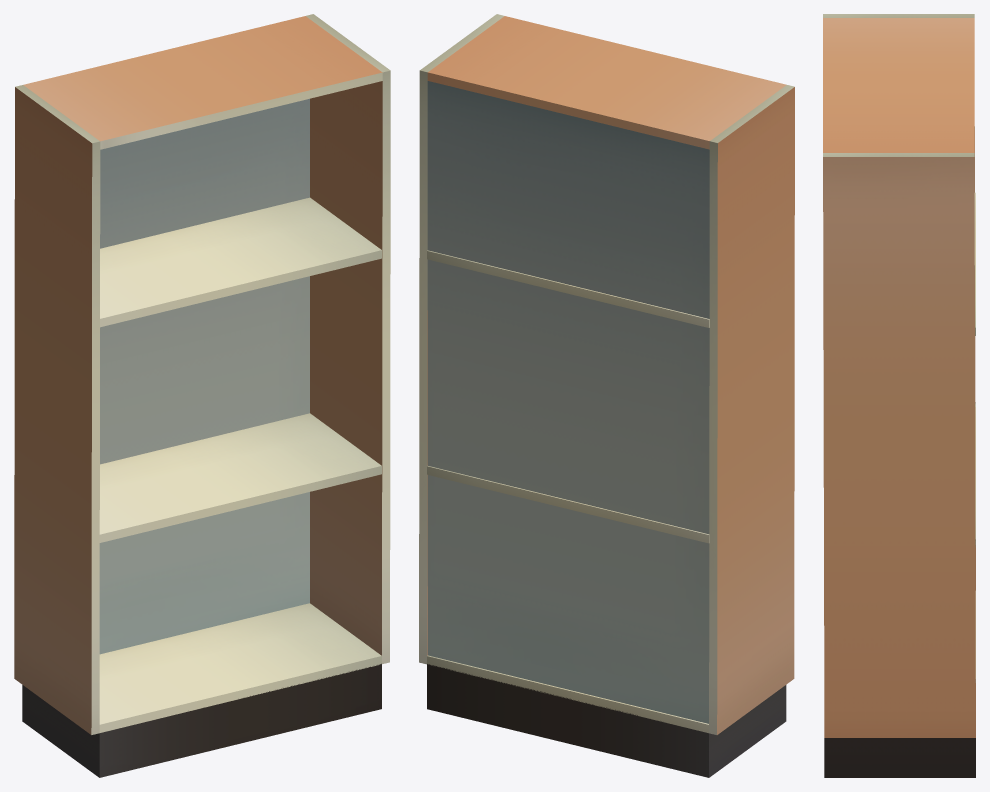
File: cabin02dd.fbx
The picture shows the model from 3 angles, left to right: view 1: azimuth 30°, elevation 25°; view 2: azimuth 150°, elevation 25°; view 3: azimuth 270°, elevation 25°; orthographic projection.
Parts seen in each view (by area): view 1: cabin02dd; view 2: cabin02dd; view 3: cabin02dd.
Boxes of the visible parts, x1,y1,x2,y2 form: cabin02dd: (14, 14, 390, 777); cabin02dd: (419, 14, 794, 777); cabin02dd: (823, 14, 975, 777).
Size of the model in its own units: 0.7397 by 1.51 by 0.3345.
